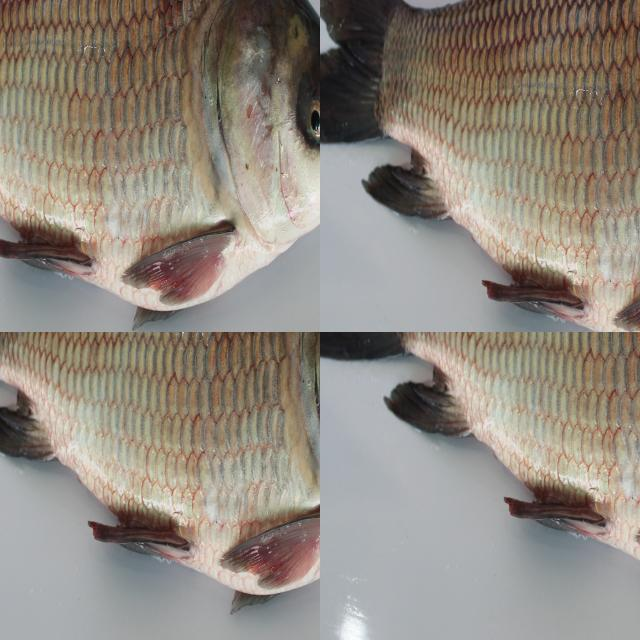fish: (0, 0, 320, 332), (320, 0, 640, 332), (0, 332, 320, 640), (320, 332, 640, 598)
